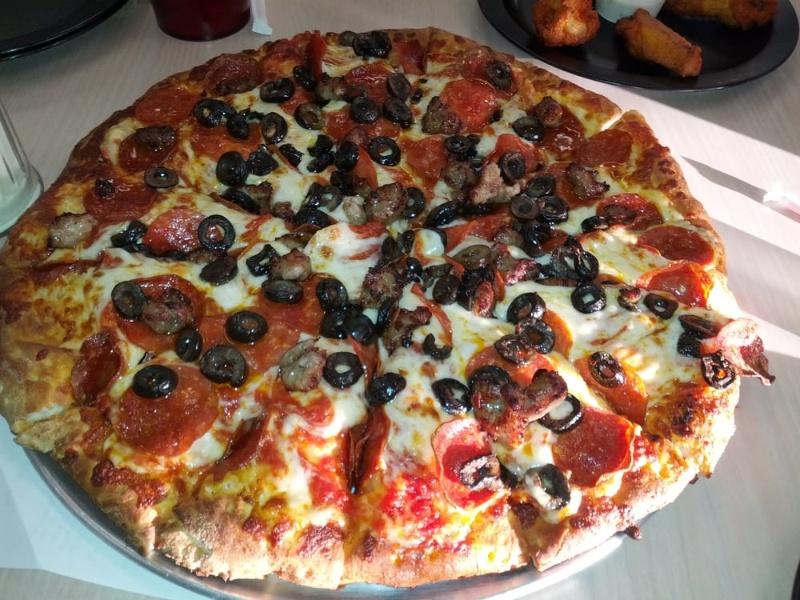olive noir: (213, 305, 275, 344), (299, 133, 359, 171), (366, 361, 414, 407), (248, 270, 305, 307), (549, 246, 604, 282), (306, 271, 359, 308), (430, 376, 477, 416), (291, 203, 345, 237), (207, 146, 252, 186), (321, 311, 378, 342), (323, 348, 366, 389), (196, 212, 238, 253), (422, 197, 477, 228), (384, 100, 430, 136), (638, 284, 680, 323), (490, 144, 533, 182), (161, 325, 206, 361), (560, 284, 612, 315), (126, 362, 176, 393), (428, 272, 471, 308), (187, 96, 231, 130), (538, 189, 583, 222), (507, 290, 552, 322), (511, 323, 556, 355), (200, 256, 243, 289), (342, 91, 381, 125), (140, 161, 187, 189), (368, 136, 406, 168), (378, 73, 421, 98), (505, 194, 542, 222)
pepperonis: (117, 359, 221, 464), (118, 362, 217, 458), (541, 398, 650, 481), (323, 412, 413, 501), (626, 210, 718, 269), (431, 70, 507, 134), (568, 122, 637, 170)
